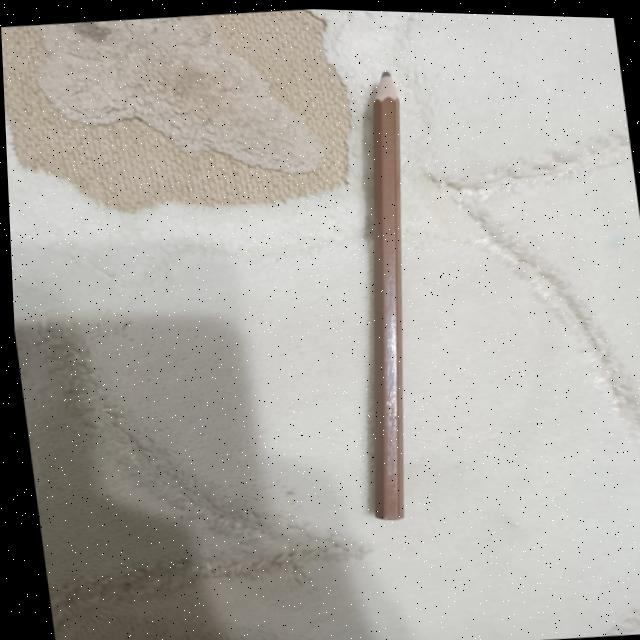pencil: (299, 55, 457, 529)
